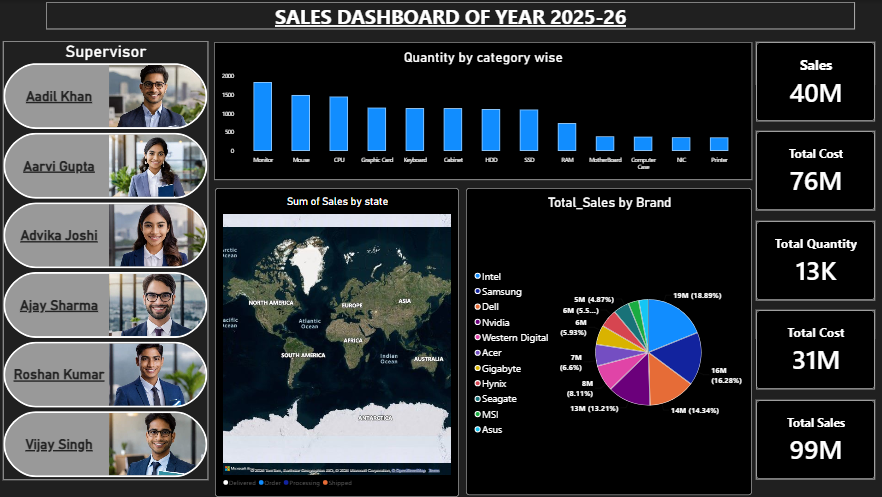

The page's visual inventory and layout, read from the dashboard file:
{"tool":"powerbi","page":{"name":"Page 1","canvas":[1920,1080],"ordinal":0},"visuals":[{"type":"advancedSlicerVisual","fields":{"Values":["Supervisor.Supervisor"]},"box":[6.5,88.9,444.6,952],"z":0},{"type":"cardVisual","fields":{"Data":["Sum(Sales_Data.Sales)"]},"box":[1639.5,91.1,258.8,172.5],"z":4},{"type":"cardVisual","fields":{"Data":["Sum(Sales_Data.Total_Cost)"]},"box":[1639.5,284.1,258.8,172.5],"z":5},{"type":"cardVisual","fields":{"Data":["Sum(Sales_Data.Total_Sales)"]},"box":[1639.5,867.5,258.8,172.5],"z":6},{"type":"cardVisual","fields":{"Data":["Sum(Sales_Data.Cost)"]},"box":[1639.5,672.3,258.8,172.5],"z":7},{"type":"cardVisual","fields":{"Data":["Sum(Sales_Data.Quantity)"]},"box":[1639.5,479.3,258.8,172.5],"z":8},{"type":"columnChart","title":"Quantity by category wise","fields":{"Category":["Sales_Data.Category"],"Y":["Sum(Sales_Data.Quantity)"]},"box":[464.1,91.1,1166.7,299.3],"z":9},{"type":"textbox","box":[99.8,4.3,1754.5,58.6],"z":11},{"type":"map","title":"Sum of Sales by state","fields":{"Series":["Sales_Data.Status"],"Size":["Sum(Sales_Data.Sales)"]},"box":[466.3,407.7,529.2,670.1],"z":12},{"type":"pieChart","title":"Total_Sales by Brand","fields":{"Category":["Sales_Data.Brand"],"Y":["Sum(Sales_Data.Total_Sales)"]},"box":[1010.6,407.7,620.2,665.8],"z":13}]}

Visuals, with their boxes in screenshot pixels (x1, y1, x2, y2), scaled from the page's 1920x1080 canvas onto the 882x497 screenshot:
advancedSlicerVisual - Supervisor.Supervisor: [3,41,207,479]
cardVisual - Sum(Sales_Data.Sales): [753,42,872,121]
cardVisual - Sum(Sales_Data.Total_Cost): [753,131,872,210]
cardVisual - Sum(Sales_Data.Total_Sales): [753,399,872,479]
cardVisual - Sum(Sales_Data.Cost): [753,309,872,389]
cardVisual - Sum(Sales_Data.Quantity): [753,221,872,300]
"Quantity by category wise" columnChart: [213,42,749,180]
textbox: [46,2,852,29]
"Sum of Sales by state" map: [214,188,457,496]
"Total_Sales by Brand" pieChart: [464,188,749,494]
